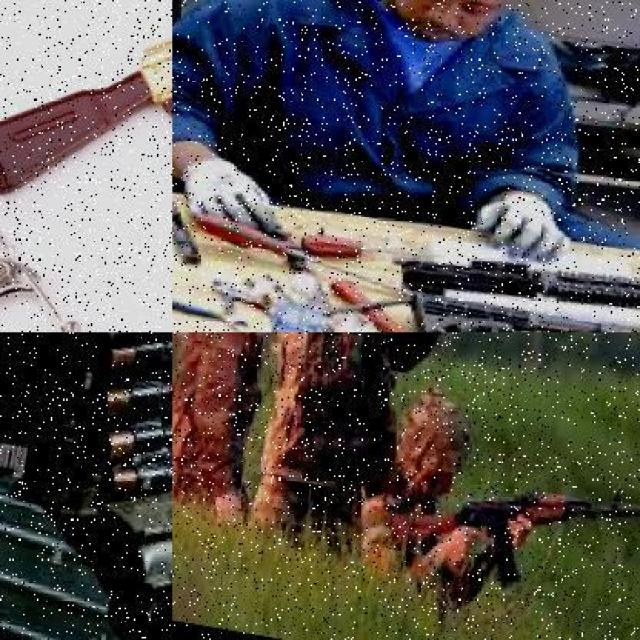weapon: (379, 473, 636, 598), (178, 199, 425, 322), (296, 222, 438, 267)
